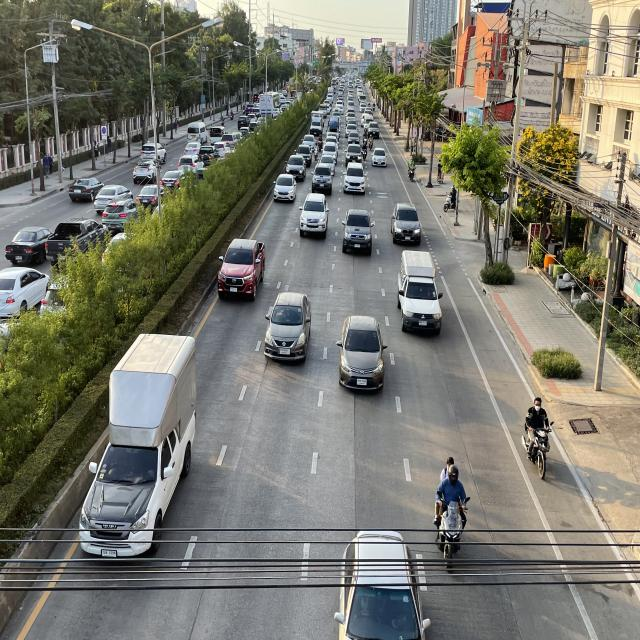bike: (431, 450, 471, 572), (519, 393, 555, 484), (407, 156, 416, 184)
car: (332, 526, 432, 640), (336, 314, 388, 394), (263, 290, 312, 366), (216, 236, 267, 302), (341, 208, 374, 254), (390, 201, 422, 245), (299, 193, 329, 238), (273, 174, 297, 203)
truck: (75, 329, 198, 563), (394, 248, 444, 336)
